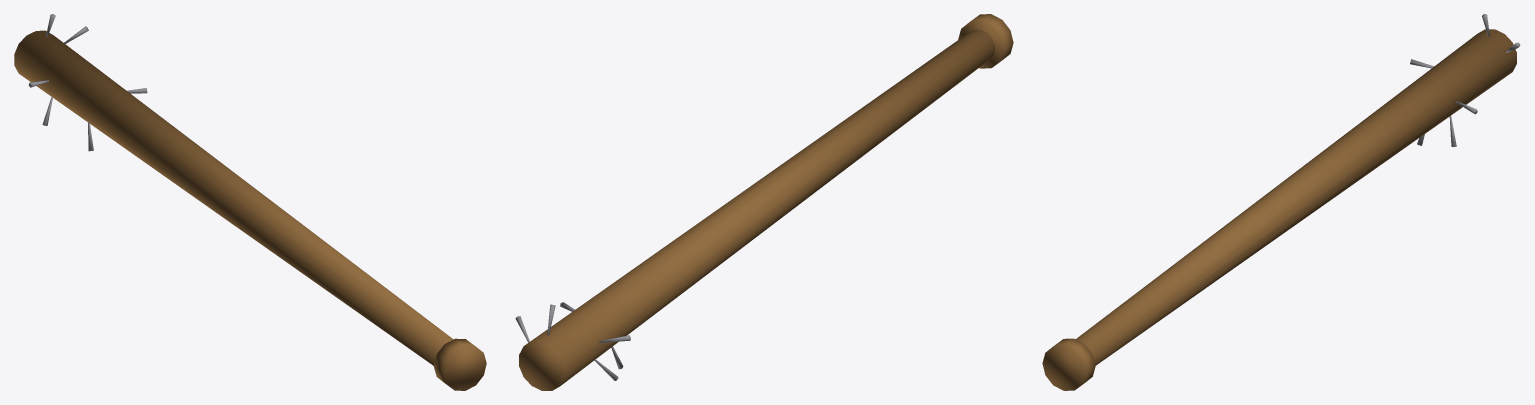
The model's file is bat.glb.
The picture shows the model from 3 angles, left to right: view 1: azimuth 30°, elevation 25°; view 2: azimuth 150°, elevation 25°; view 3: azimuth 330°, elevation 25°; orthographic projection. The views are drawn at different scales.
Parts seen in each view (by area): view 1: bat; view 2: bat; view 3: bat.
Boxes of the visible parts, x1=… form: bat: x1=14, y1=14, x2=486, y2=390; bat: x1=515, y1=14, x2=1013, y2=390; bat: x1=1042, y1=14, x2=1520, y2=390.
Size of the model in its own units: 0.1038 by 0.1029 by 0.835.
